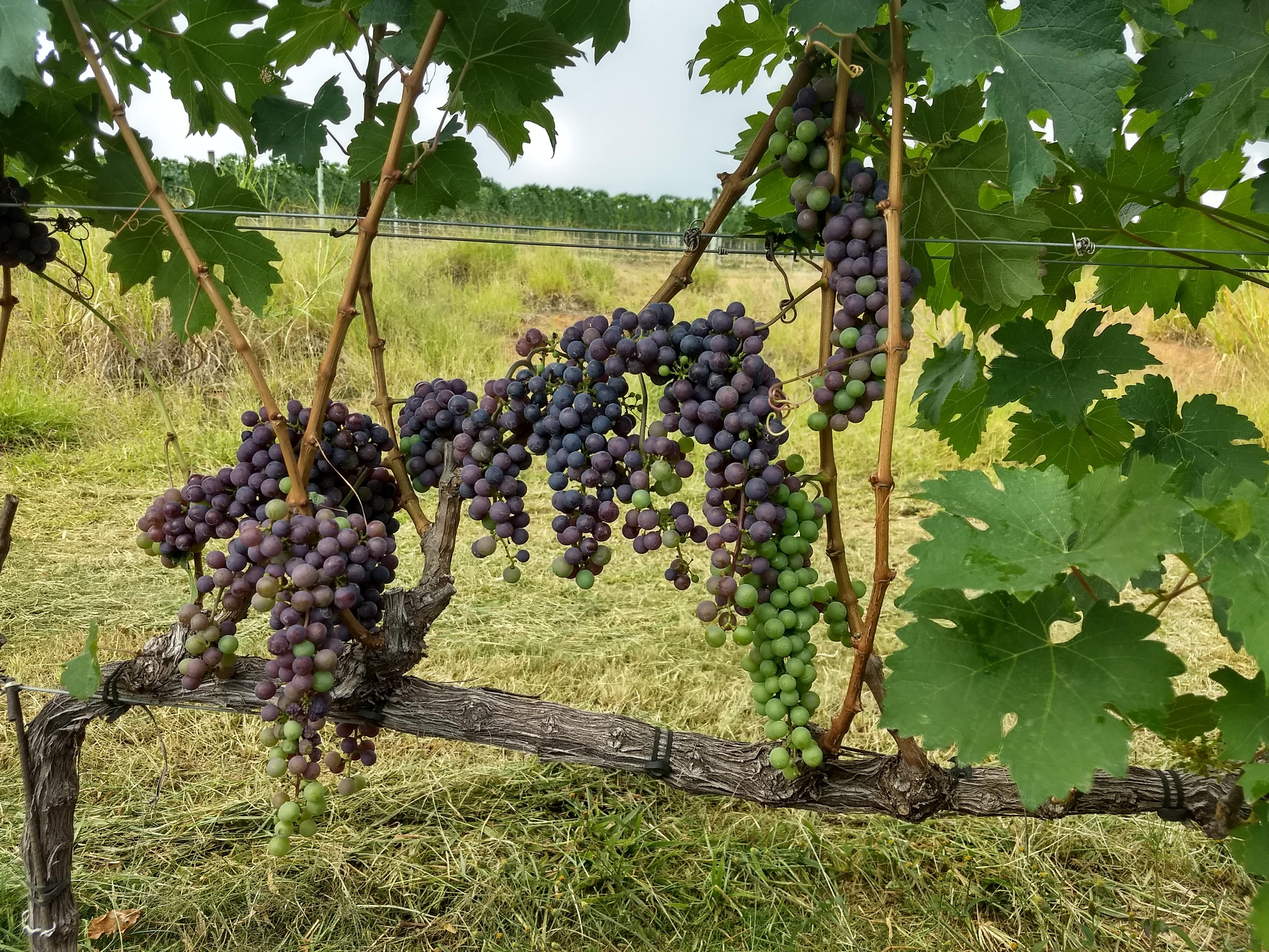leaf: (883, 586, 1184, 807), (903, 0, 1135, 203), (902, 457, 1186, 603), (1133, 0, 1268, 171), (437, 0, 581, 156), (139, 0, 279, 147), (987, 308, 1159, 424), (1118, 375, 1268, 494), (905, 123, 1047, 241), (98, 206, 215, 338), (182, 162, 280, 314), (1005, 399, 1133, 484), (251, 76, 350, 169), (692, 0, 787, 91), (266, 0, 364, 72), (392, 137, 480, 217), (915, 367, 990, 459), (912, 333, 980, 424), (949, 243, 1042, 307), (0, 0, 50, 115), (542, 0, 630, 63), (1209, 667, 1268, 760), (1128, 693, 1217, 740), (347, 104, 397, 181), (59, 621, 101, 700), (90, 152, 145, 207), (787, 0, 878, 33), (406, 110, 418, 141), (399, 150, 409, 168), (155, 168, 159, 173), (821, 33, 822, 37), (874, 10, 875, 12), (262, 146, 263, 147), (155, 24, 157, 24)
